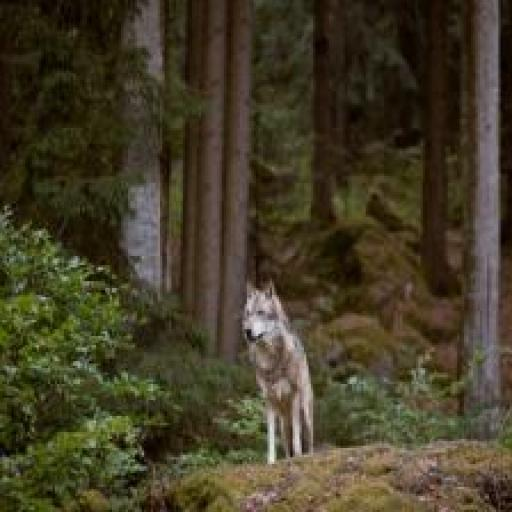wolf: (235, 277, 327, 480)
